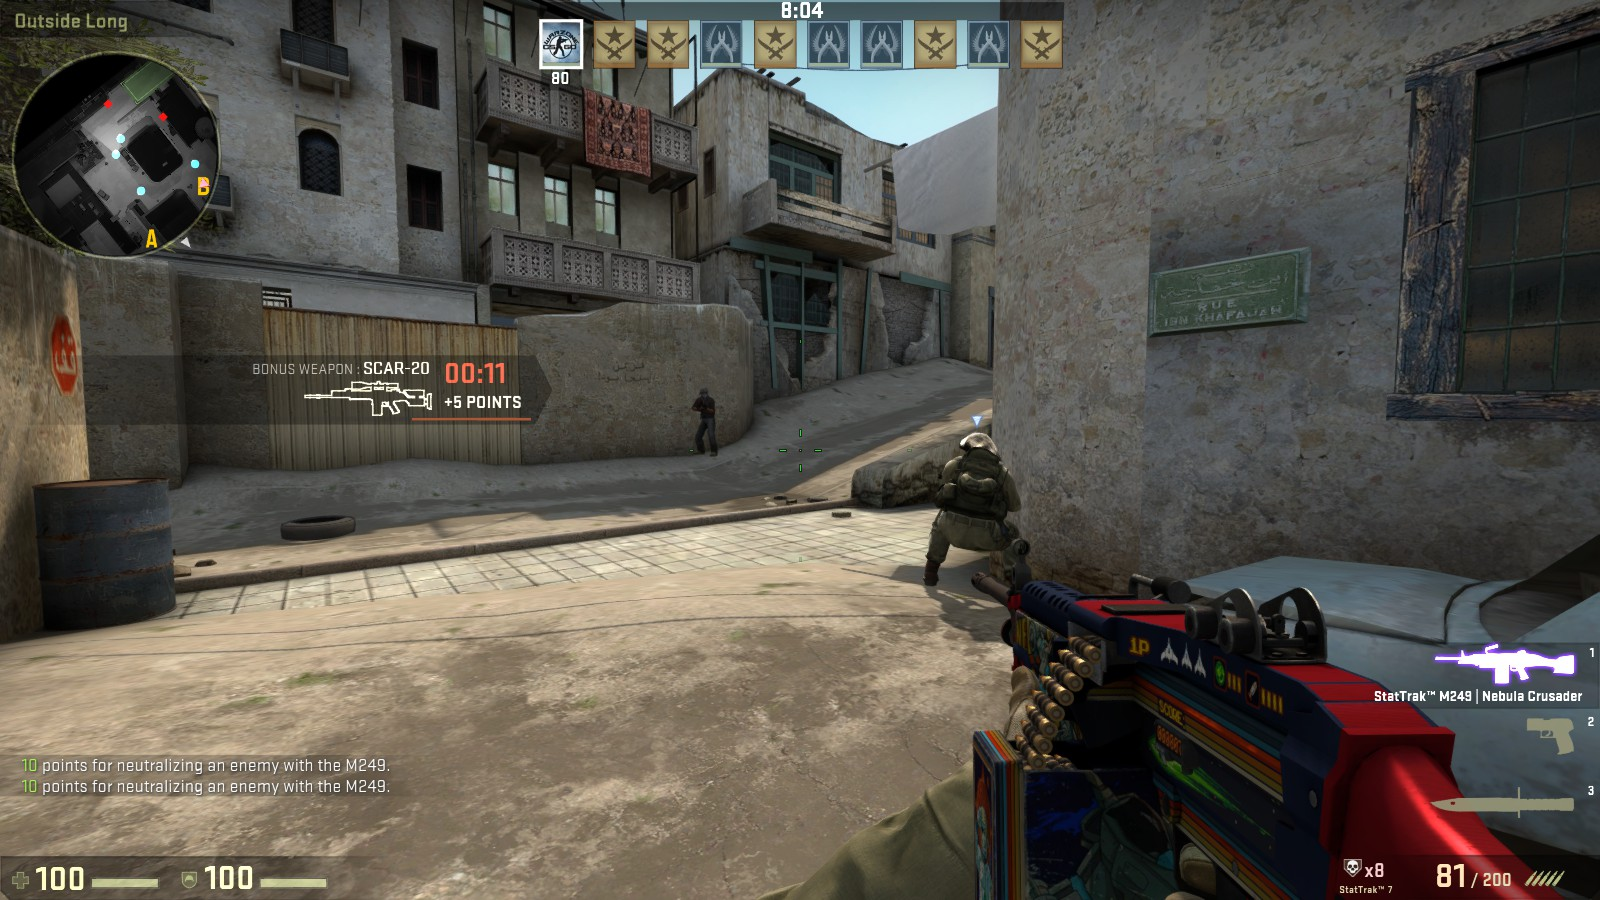c: (931, 430, 1019, 597)
ch: (956, 430, 1004, 458)
t: (689, 385, 721, 458)
th: (699, 387, 711, 399)
